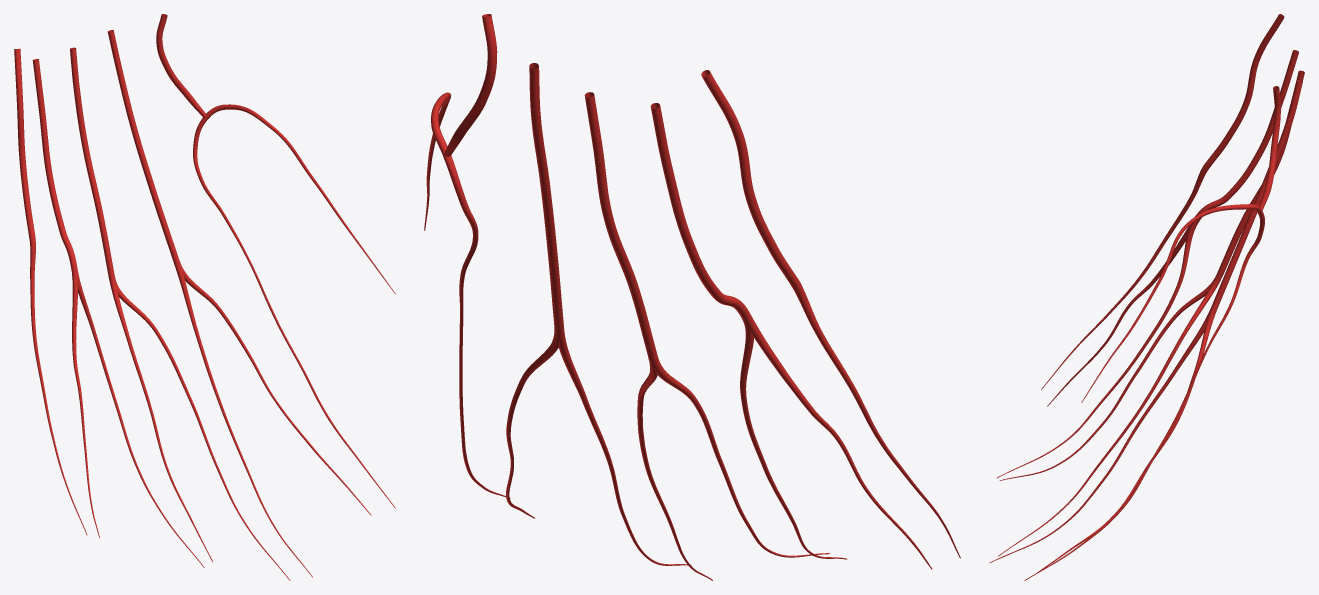
Rendered from circulatorio-dorsal-metacarpal-arteries-l.glb.
The picture shows the model from 3 angles, left to right: view 1: azimuth 30°, elevation 25°; view 2: azimuth 150°, elevation 25°; view 3: azimuth 270°, elevation 25°; orthographic projection. The views are drawn at different scales.
Parts seen in each view (by area): view 1: Dorsal digital arteries of hand.l, Dorsal metacarpal arteries.l; view 2: Dorsal digital arteries of hand.l, Dorsal metacarpal arteries.l; view 3: Dorsal digital arteries of hand.l, Dorsal metacarpal arteries.l.
Part boxes in pixels (x1,y1,x2,y2): Dorsal digital arteries of hand.l: [29, 104, 395, 580]; Dorsal metacarpal arteries.l: [14, 14, 205, 277]; Dorsal digital arteries of hand.l: [424, 92, 960, 580]; Dorsal metacarpal arteries.l: [444, 14, 798, 360]; Dorsal digital arteries of hand.l: [989, 164, 1264, 580]; Dorsal metacarpal arteries.l: [1195, 14, 1304, 302].
Bounding box in the file's own units: 0.1029 × 0.1373 × 0.0828.
